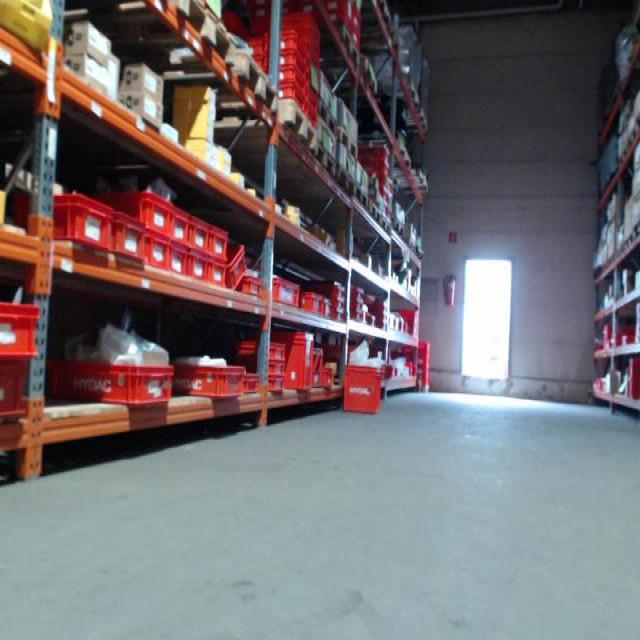pallet: (103, 47, 282, 130), (17, 3, 234, 58), (190, 96, 322, 169), (287, 24, 360, 73), (321, 54, 379, 102), (353, 187, 384, 228), (306, 101, 339, 137), (303, 148, 336, 184), (330, 168, 356, 205), (339, 127, 362, 157)
small_load_carrier: (20, 191, 116, 259), (55, 362, 177, 410), (1, 299, 48, 360), (117, 187, 173, 236), (336, 363, 385, 417), (174, 365, 242, 403), (1, 359, 36, 423), (285, 333, 317, 396), (109, 211, 143, 267), (228, 243, 252, 291), (263, 29, 307, 55), (270, 275, 300, 312), (307, 282, 346, 309), (139, 237, 169, 272), (235, 357, 285, 376), (189, 215, 211, 257), (268, 88, 303, 114), (234, 339, 284, 357), (171, 201, 190, 248), (393, 306, 419, 339), (205, 259, 230, 292), (165, 247, 191, 278), (186, 253, 210, 285), (210, 221, 230, 259), (258, 376, 285, 399), (271, 71, 304, 88), (266, 54, 304, 68), (298, 291, 320, 315), (238, 278, 261, 298), (243, 374, 260, 396), (326, 371, 336, 392), (324, 302, 334, 320), (328, 312, 345, 322)
